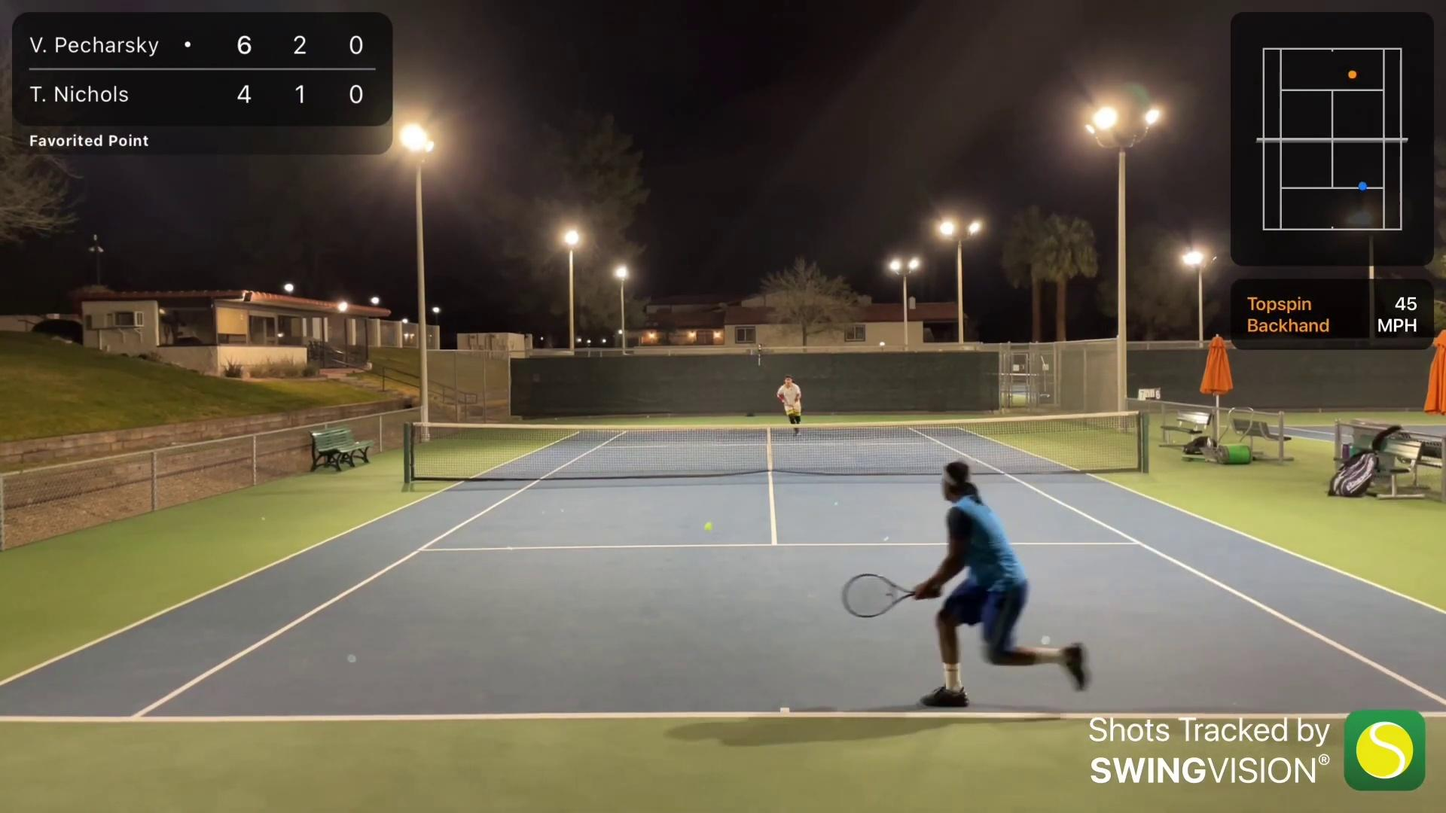ball: (700, 519, 712, 533)
